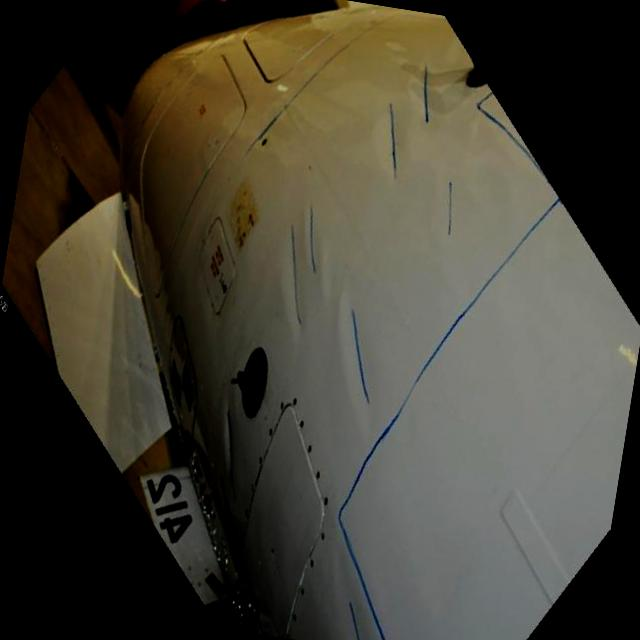dent: (356, 105, 410, 172)
